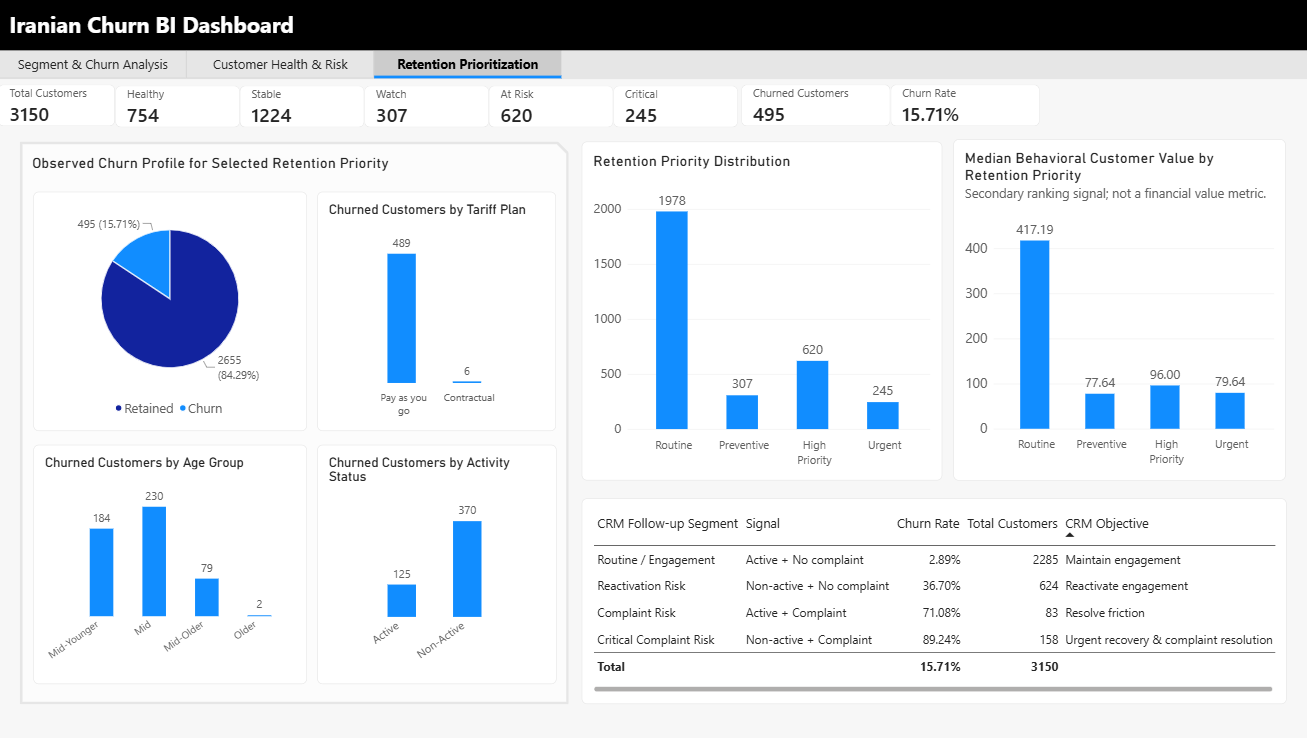

What the dashboard file says about the page in this screenshot:
{"tool":"powerbi","page":{"name":"Retention Prioritization","canvas":[1920,1080],"ordinal":2},"visuals":[{"type":"group","id":"g1","title":"Group 2","box":[0,75,1918.3,43],"z":0,"group":"g4"},{"type":"shape","box":[31.5,207.7,803,823],"z":0},{"type":"group","id":"g2","title":"Group 3","box":[1.7,0,1918.3,75],"z":1000,"group":"g4"},{"type":"clusteredColumnChart","title":"Median Behavioral Customer Value by Retention Priority ","fields":{"Category":["public customer_health_analytics.retention_priority"],"Y":["public customer_health_analytics.Median Customer Value"]},"box":[1397.4,204.5,486.3,498.9],"z":1000},{"type":"cardVisual","title":"Customers by Health Class","fields":{"Data":["public customer_health_analytics.Routine Customers","public customer_health_analytics.Stable Customers","public customer_health_analytics.Watch Customers","public customer_health_analytics.At Risk Customers","public customer_health_analytics.Critical Customers"]},"box":[171.5,126.3,914.3,61.4],"z":2000,"group":"g3"},{"type":"clusteredColumnChart","title":"Retention Priority Distribution","fields":{"Category":["public customer_health_analytics.retention_priority"],"Y":["public customer_health_analytics.Total Customers"]},"box":[852.9,207.7,527.2,495.7],"z":2000},{"type":"pieChart","title":"Number of Churned Customers","fields":{"Category":["public customer_health_analytics.Churn Status"],"Y":["public customer_health_analytics.Total Customers"]},"box":[51,281,400,350],"z":3000},{"type":"cardVisual","fields":{"Data":["public customer_health_analytics.Total Customers"]},"box":[0,124.7,171.5,61.4],"z":4000,"group":"g3"},{"type":"clusteredColumnChart","title":"Churned Customers by Tariff Plan","fields":{"Category":["public customer_health_analytics.Tariff Plan"],"Y":["public customer_health_analytics.Churned Customers"]},"box":[466,281.7,349.4,350],"z":4000},{"type":"shape","title":"csacasc","box":[1.7,0,1918.3,75],"z":5000,"group":"g2"},{"type":"cardVisual","fields":{"Data":["public customer_health_analytics.Churned Customers"]},"box":[1085.9,124.7,218,61],"z":5000,"group":"g3"},{"type":"clusteredColumnChart","title":"Churned Customers by Activity Status","fields":{"Category":["public customer_health_analytics.Activity Status"],"Y":["public customer_health_analytics.Churned Customers"]},"box":[466.7,651,350,350],"z":5000},{"type":"shape","box":[0,75.5,1918.3,42.5],"z":6000,"group":"g1"},{"type":"cardVisual","fields":{"Data":["public customer_health_analytics.Churn Rate"]},"box":[1304.6,124.7,218,61],"z":6000,"group":"g3"},{"type":"clusteredColumnChart","title":"Churned Customers by Age Group","fields":{"Category":["public customer_health_analytics.Age Group"],"Y":["public customer_health_analytics.Churned Customers"]},"box":[51.7,651.7,400,350],"z":6000},{"type":"textbox","title":"Observed Churn Profile for Selected Retention Priority","box":[50.4,226.6,590.1,34.6],"z":7000},{"type":"tableEx","fields":{"Values":["public customer_health_analytics.CRM Follow-up Segment","public customer_health_analytics.Signal","public customer_health_analytics.Churn Rate","public customer_health_analytics.Total Customers","public customer_health_analytics.CRM Objective"]},"box":[852.9,730.2,1030.8,300.6],"z":8000},{"type":"group","id":"g3","title":"Group 1","box":[0,124.7,1522.6,62.9],"z":9000},{"type":"group","id":"g4","title":"Group 4","box":[0,0,1920,118],"z":10000},{"type":"pageNavigator","box":[1.7,75,823.3,41.7],"z":14000,"group":"g1"},{"type":"textbox","box":[16.7,15,438.3,46.7],"z":15002,"group":"g2"}]}

Visuals, with their boxes in screenshot pixels (x1, y1, x2, y2), scaled from the page's 1920x1080 canvas onto the 1307x738 screenshot:
"Group 2" group: [left=0, top=51, right=1306, bottom=81]
shape: [left=21, top=142, right=568, bottom=704]
"Group 3" group: [left=1, top=0, right=1306, bottom=51]
"Median Behavioral Customer Value by Retention Priority " clusteredColumnChart: [left=951, top=140, right=1282, bottom=481]
"Customers by Health Class" cardVisual: [left=117, top=86, right=739, bottom=128]
"Retention Priority Distribution" clusteredColumnChart: [left=581, top=142, right=939, bottom=481]
"Number of Churned Customers" pieChart: [left=35, top=192, right=307, bottom=431]
cardVisual - public customer_health_analytics.Total Customers: [left=0, top=85, right=117, bottom=127]
"Churned Customers by Tariff Plan" clusteredColumnChart: [left=317, top=192, right=555, bottom=432]
"csacasc" shape: [left=1, top=0, right=1306, bottom=51]
cardVisual - public customer_health_analytics.Churned Customers: [left=739, top=85, right=888, bottom=127]
"Churned Customers by Activity Status" clusteredColumnChart: [left=318, top=445, right=556, bottom=684]
shape: [left=0, top=52, right=1306, bottom=81]
cardVisual - public customer_health_analytics.Churn Rate: [left=888, top=85, right=1036, bottom=127]
"Churned Customers by Age Group" clusteredColumnChart: [left=35, top=445, right=307, bottom=684]
"Observed Churn Profile for Selected Retention Priority" textbox: [left=34, top=155, right=436, bottom=178]
tableEx - public customer_health_analytics.CRM Follow-up Segment x public customer_health_analytics.Signal: [left=581, top=499, right=1282, bottom=704]
"Group 1" group: [left=0, top=85, right=1036, bottom=128]
"Group 4" group: [left=0, top=0, right=1306, bottom=81]
pageNavigator: [left=1, top=51, right=562, bottom=80]
textbox: [left=11, top=10, right=310, bottom=42]
